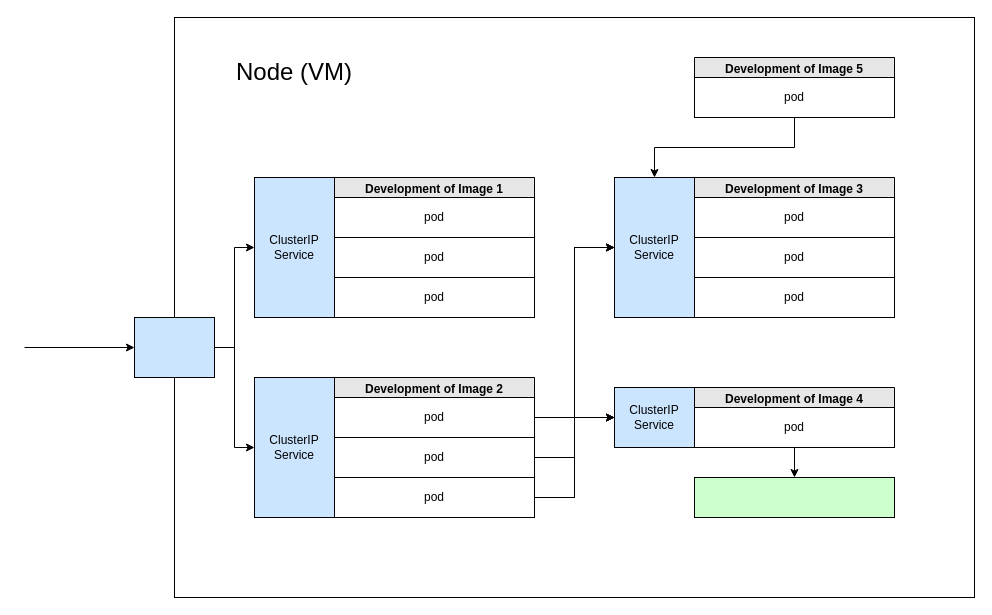
Image size: 992x615. Some labels were removed from this diagram. Here are the shapes that lost their labels. From the top down, the centre of each, then its label:
At point (174, 347): "Ingress Service".
At point (794, 497): "Progress PVC".
